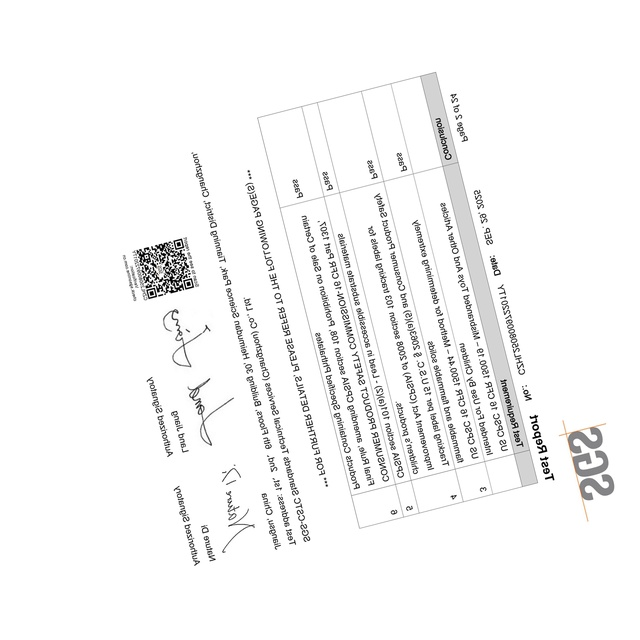sgs: (568, 426, 615, 501)
